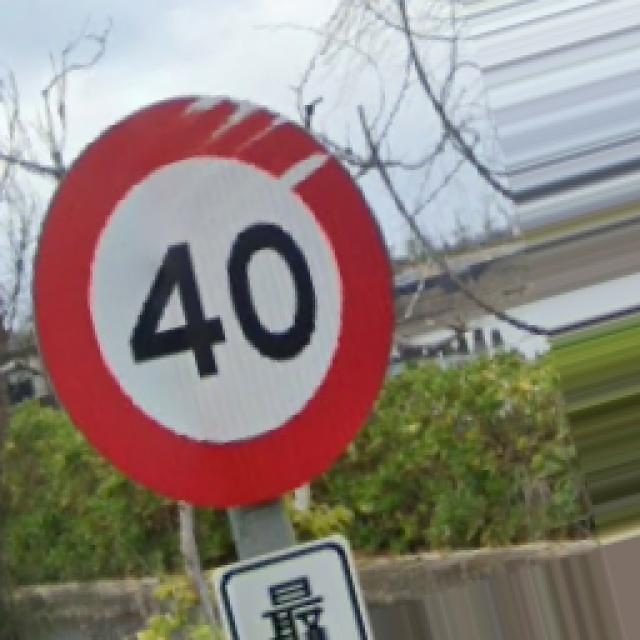Speed Limit -40-: (35, 98, 392, 505)
